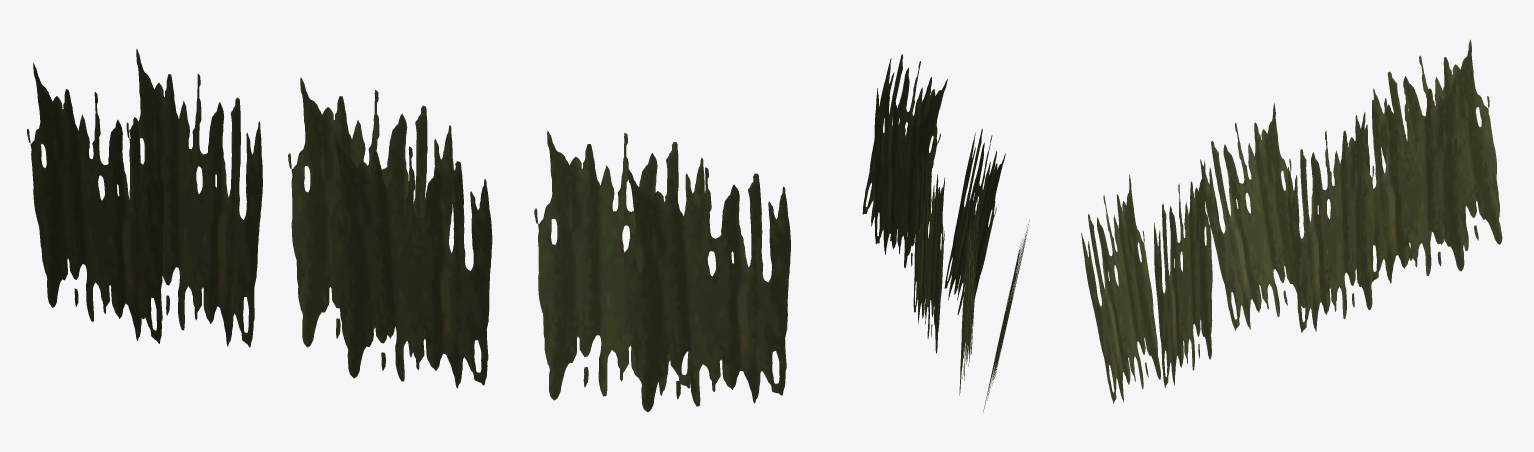
File: cao2_1.fbx
3 renders of one model, left to right at view 1: azimuth 30°, elevation 25°; view 2: azimuth 150°, elevation 25°; view 3: azimuth 270°, elevation 25°, orthographic. The views are drawn at different scales.
Parts seen in each view (by area): view 1: cao2_1; view 2: cao2_1; view 3: cao2_1.
Part boxes in pixels (box(x1,y1,x2,y2)): cao2_1: box(27, 48, 790, 412); cao2_1: box(862, 54, 1029, 411); cao2_1: box(1081, 39, 1502, 403).
Bounding box in the file's own units: 265 × 161 × 270.
